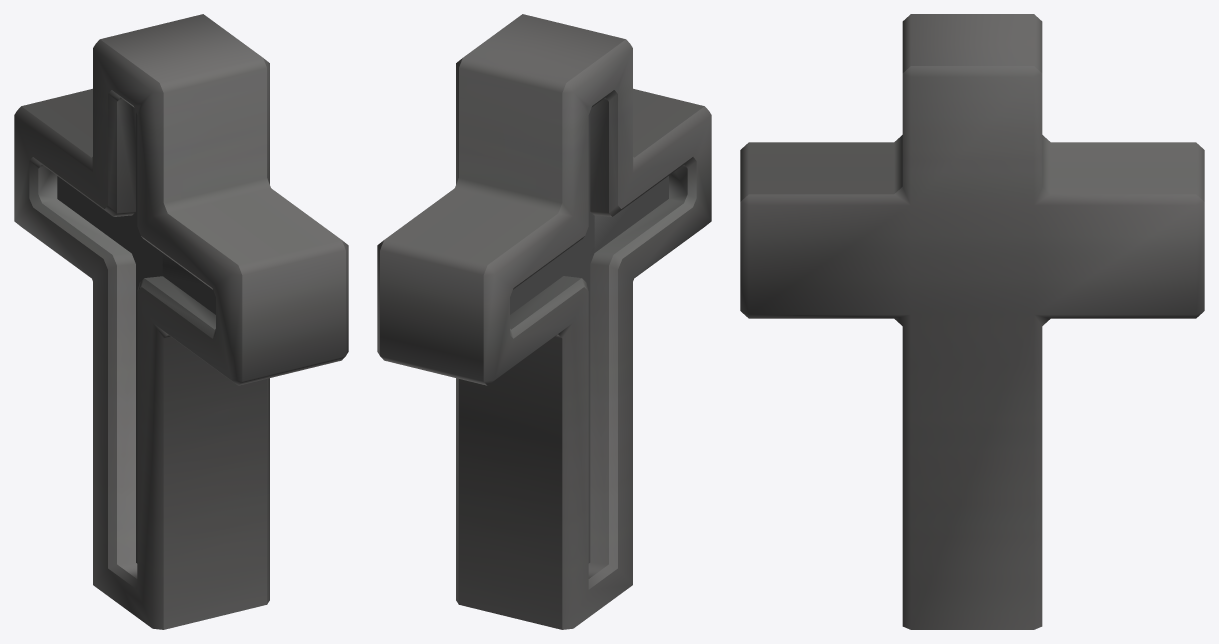
The model's file is Cross_2_1.glb.
The picture shows the model from 3 angles, left to right: view 1: azimuth 30°, elevation 25°; view 2: azimuth 150°, elevation 25°; view 3: azimuth 270°, elevation 25°; orthographic projection. The views are drawn at different scales.
Visible parts, largest first — view 1: Cross_2_1; view 2: Cross_2_1; view 3: Cross_2_1.
Part boxes in pixels (x1=…): Cross_2_1: x1=14, y1=14, x2=348, y2=629; Cross_2_1: x1=377, y1=14, x2=711, y2=629; Cross_2_1: x1=740, y1=14, x2=1204, y2=629.
Bounding box in the file's own units: 0.2195 × 0.971 × 0.7287.
1 material, 1 textured.
